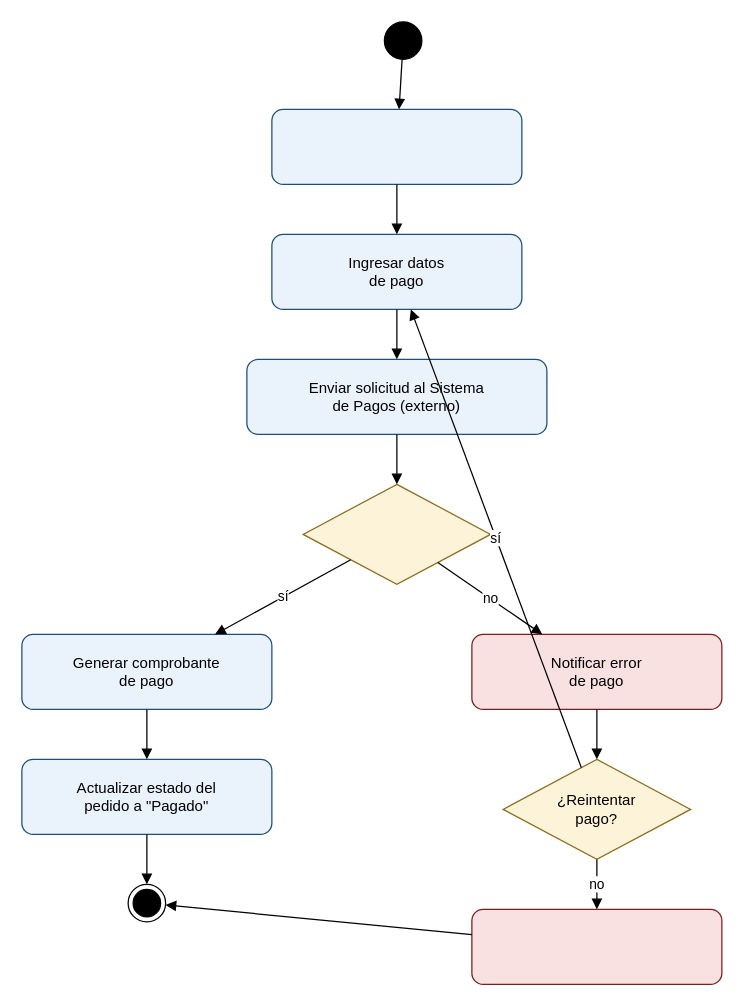
The diagram is 744 pixels wide and 1006 high, and some of its shapes have lost their labels. The box of each missing label's shape, as (x1, y1, x2, y2) in pixels:
Cancelar pedido: (471, 908, 722, 984)
Seleccionar método de pago: (271, 108, 522, 184)
¿Pago aprobado?: (302, 483, 491, 584)
